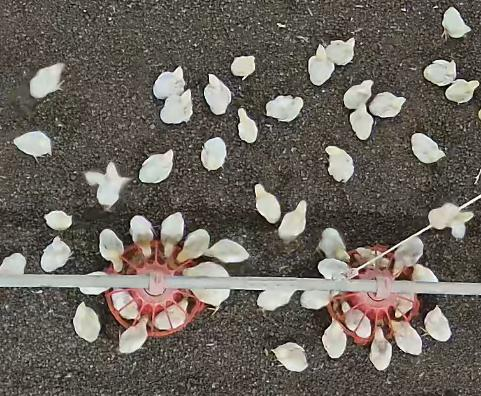chick: (181, 264, 229, 314), (84, 161, 131, 210), (428, 203, 474, 238), (29, 62, 67, 99), (12, 130, 54, 163), (394, 235, 425, 278), (71, 300, 101, 343), (203, 71, 232, 114), (341, 299, 372, 339), (139, 149, 175, 183), (41, 235, 74, 272), (306, 44, 335, 86), (391, 318, 423, 356), (324, 145, 355, 184), (160, 89, 194, 124), (318, 225, 352, 260), (368, 325, 393, 372), (119, 316, 149, 355), (265, 94, 303, 124), (269, 341, 308, 370), (152, 66, 186, 99), (279, 200, 307, 240), (99, 228, 124, 272), (441, 6, 472, 41), (205, 238, 249, 262), (422, 305, 452, 340), (162, 211, 184, 258), (321, 317, 346, 358), (342, 79, 374, 111), (412, 134, 445, 165), (255, 184, 280, 224), (155, 299, 188, 329), (128, 216, 152, 257), (370, 91, 405, 119), (349, 102, 374, 141), (113, 286, 139, 322), (178, 231, 209, 261), (79, 269, 113, 296), (325, 36, 356, 65), (424, 59, 456, 86), (236, 107, 259, 144), (202, 137, 226, 171), (445, 79, 480, 102), (259, 289, 295, 311), (316, 259, 358, 277), (302, 289, 338, 309), (358, 246, 389, 269), (229, 54, 256, 79), (42, 212, 75, 232), (394, 290, 413, 319), (412, 262, 438, 282)
rice: (106, 241, 204, 335), (326, 246, 420, 344)
